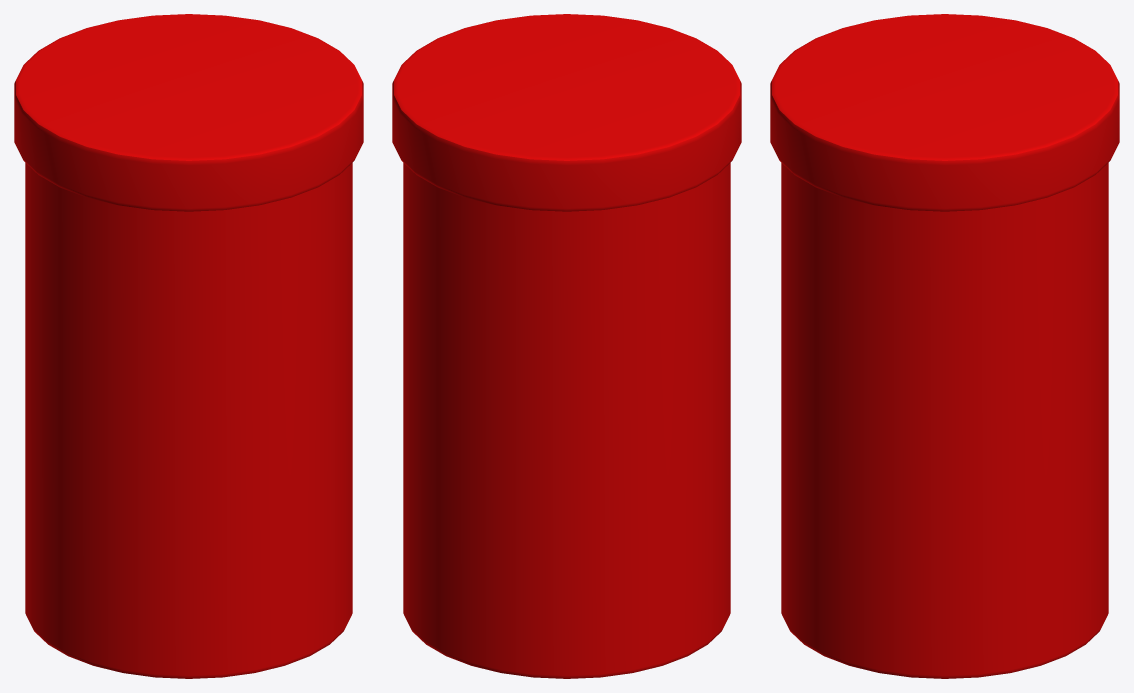
The model's file is Package_12.fbx.
3 views of the same model, side by side, from view 1: azimuth 30°, elevation 25°; view 2: azimuth 150°, elevation 25°; view 3: azimuth 270°, elevation 25° (orthographic).
Visible parts, largest first — view 1: L14:polySurface14; view 2: L14:polySurface14; view 3: L14:polySurface14.
Boxes of the visible parts, x1,y1,x2,y2 form: L14:polySurface14: (14, 14, 363, 678); L14:polySurface14: (392, 14, 741, 678); L14:polySurface14: (770, 14, 1119, 678).
Size of the model in its own units: 11.56 by 19.1 by 11.5.
